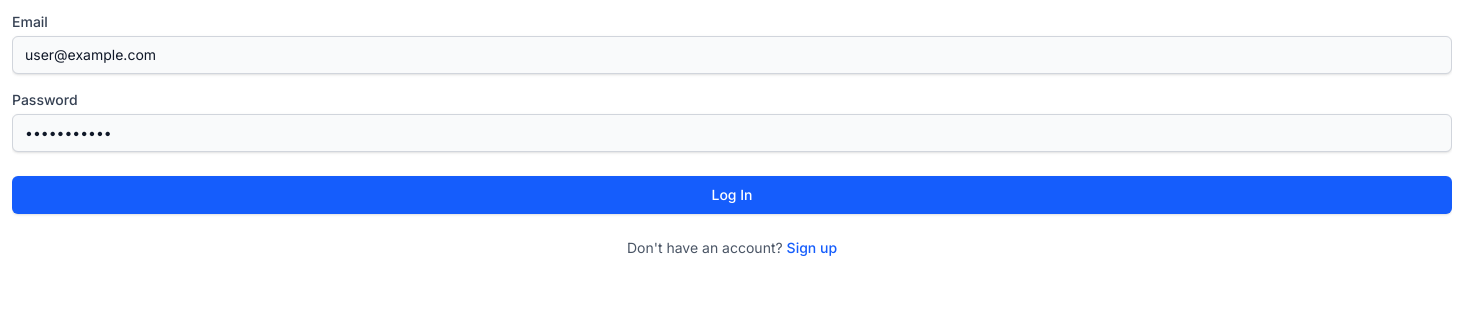
Test case: LoginForm › handles failed login and displays an error message
The image size is (1464, 317).
Replace the text in the field labelled "Email" with "wrong@example.com" at (732,55), box [12, 36, 1452, 74]
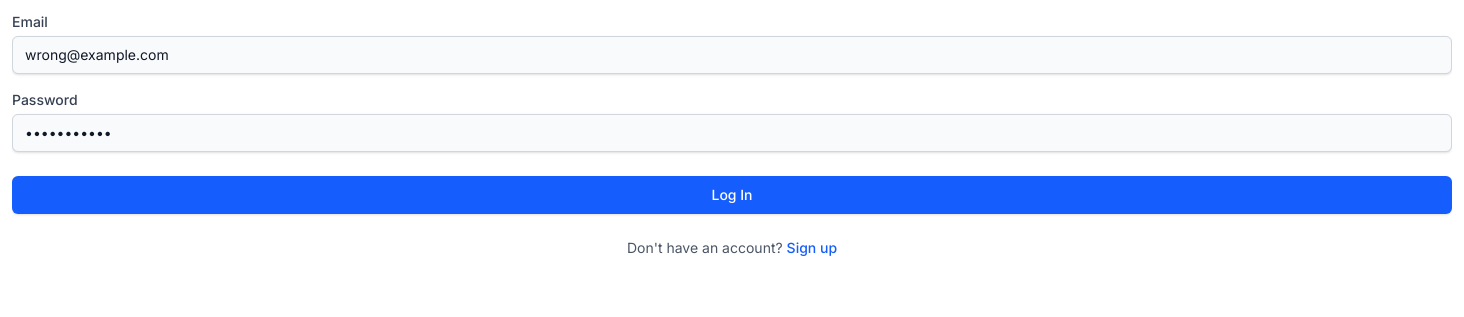
Type "wrongpassword" into the password field labelled "Password" at (732,133), box [12, 114, 1452, 152]
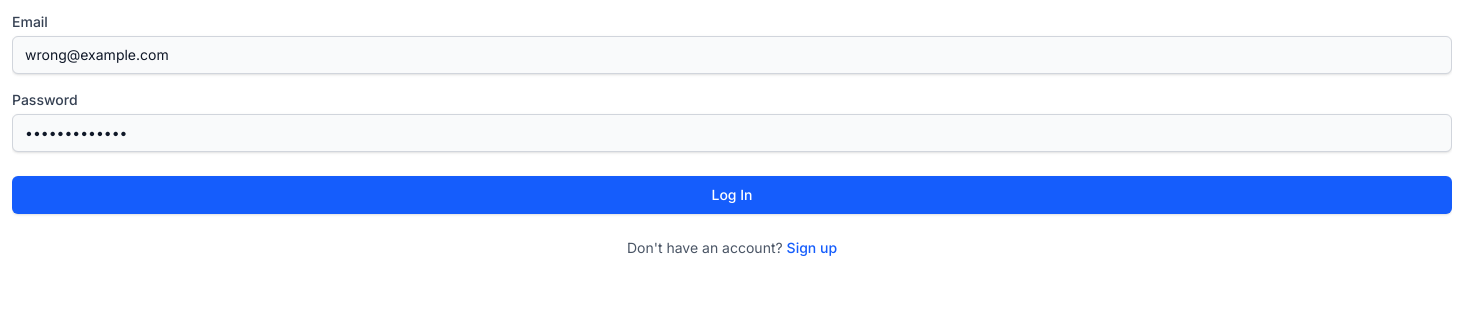
Click the button "Log In" at (732,195), box [12, 176, 1452, 214]
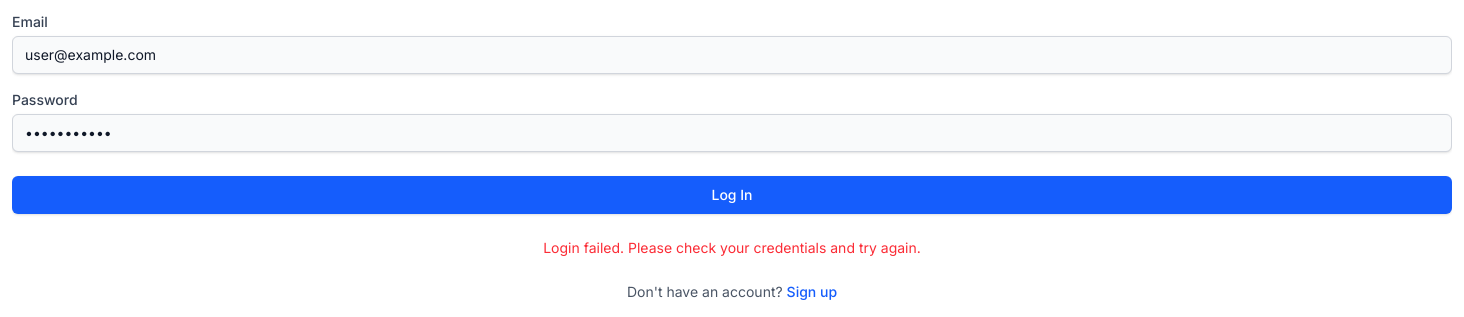
Result: the text "Login failed. Please check your credentials and try again." is shown at [543, 239, 921, 256]
